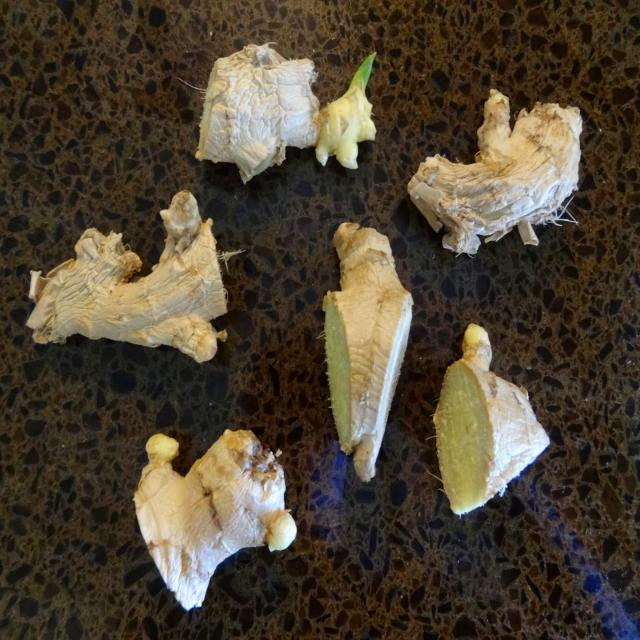ginger: (115, 414, 304, 617), (313, 205, 420, 480), (422, 318, 561, 526)
